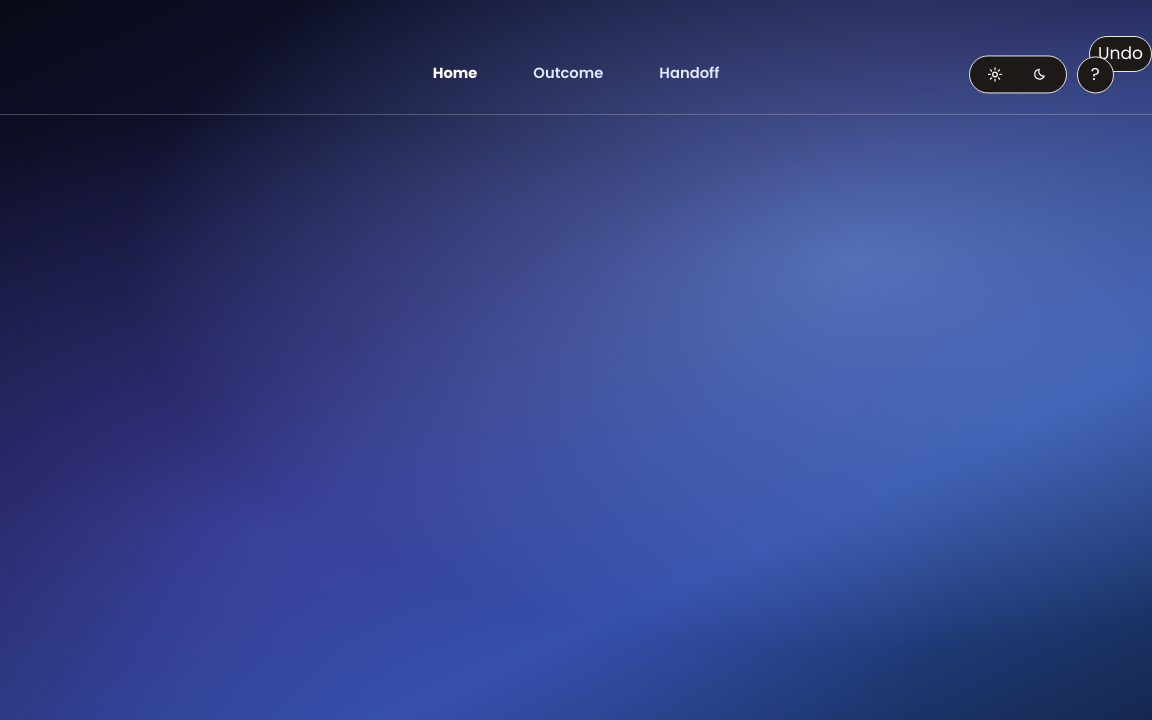
Test: shortcuts and landmarks › opens shortcut help and announces the level with text
expect the header is shown: met, box [0, 36, 1151, 115]
expect the navigation bar named "Screens" is shown: met, box [433, 63, 719, 84]
Click the button with test id "shortcut-help-button": point(1095, 75) [1077, 56, 1114, 93]
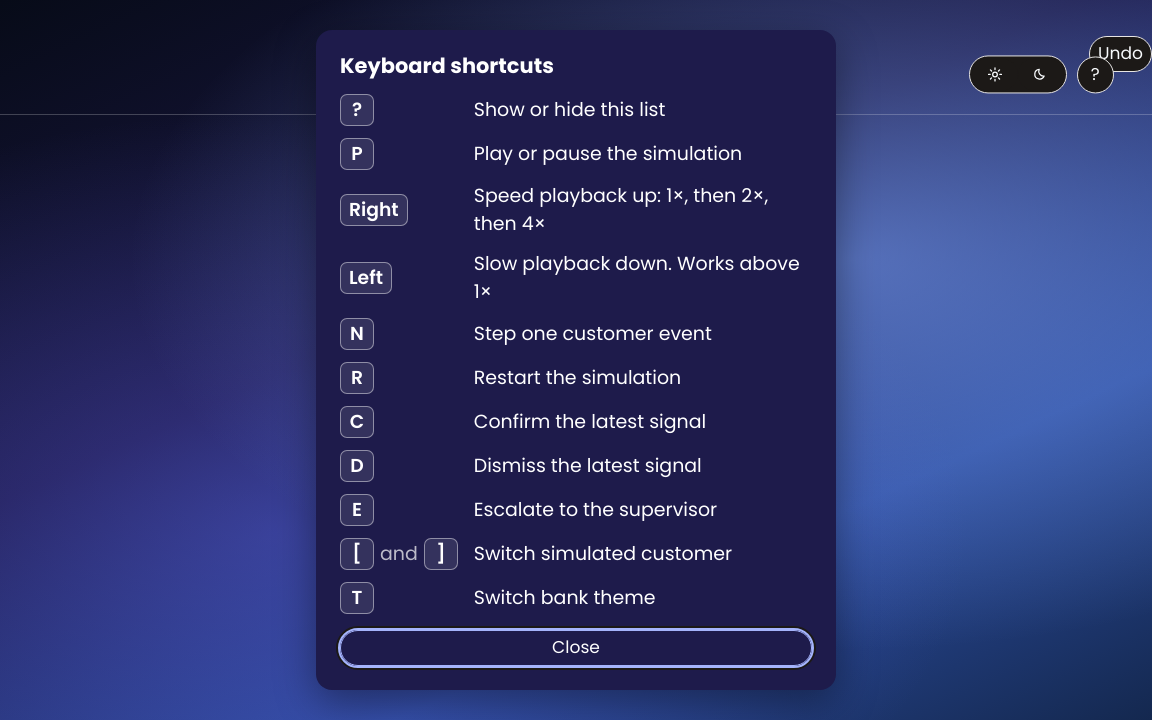
expect the dialog with test id "shortcut-help" is shown: met, box [316, 30, 836, 690]
expect the dialog with test id "shortcut-help" shows "Restart the simulation": met, box [474, 364, 681, 391]
expect the dialog with test id "shortcut-help" shows "Confirm the latest signal": met, box [474, 408, 706, 435]
Press Escape
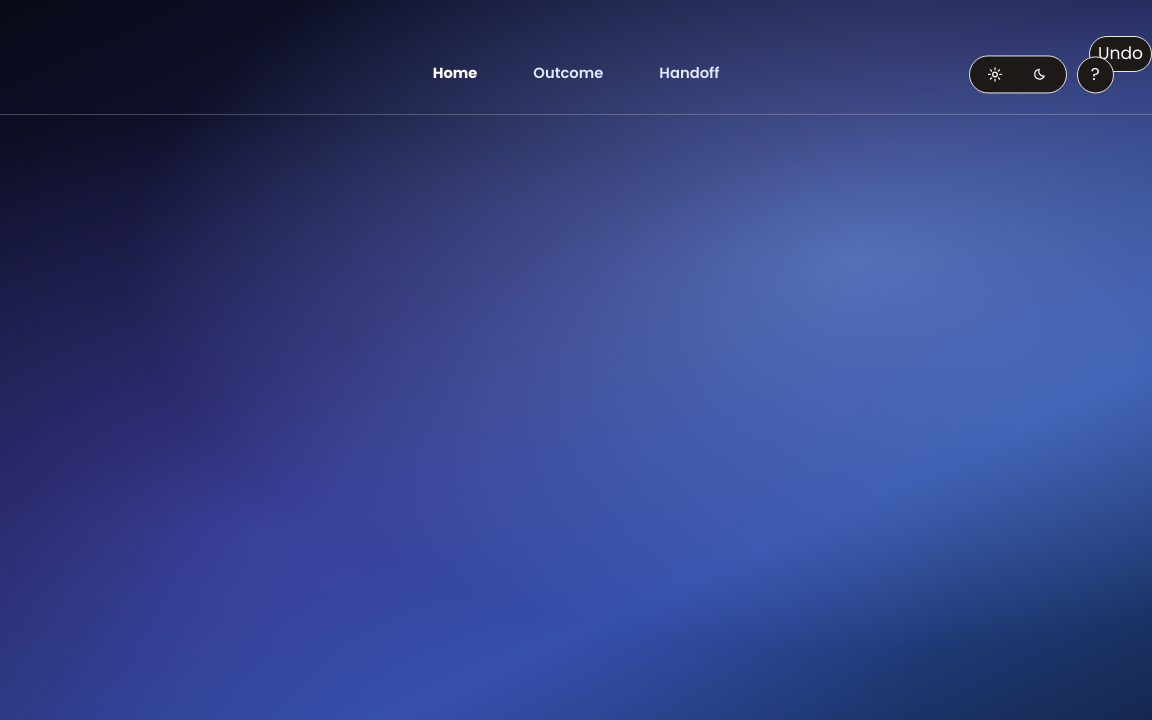
expect the dialog with test id "shortcut-help" is gone: met
